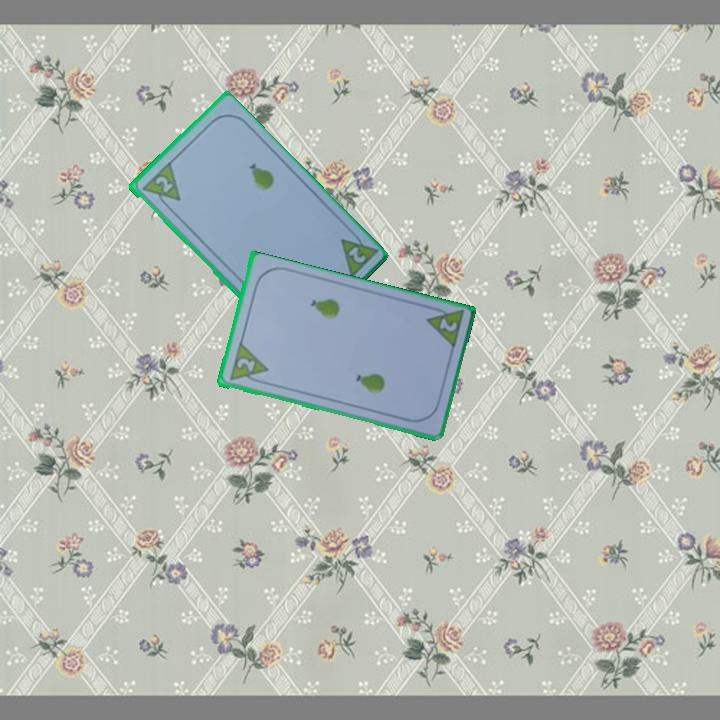2p: (225, 341, 270, 387), (151, 172, 175, 196), (344, 243, 368, 266), (435, 314, 460, 335)
